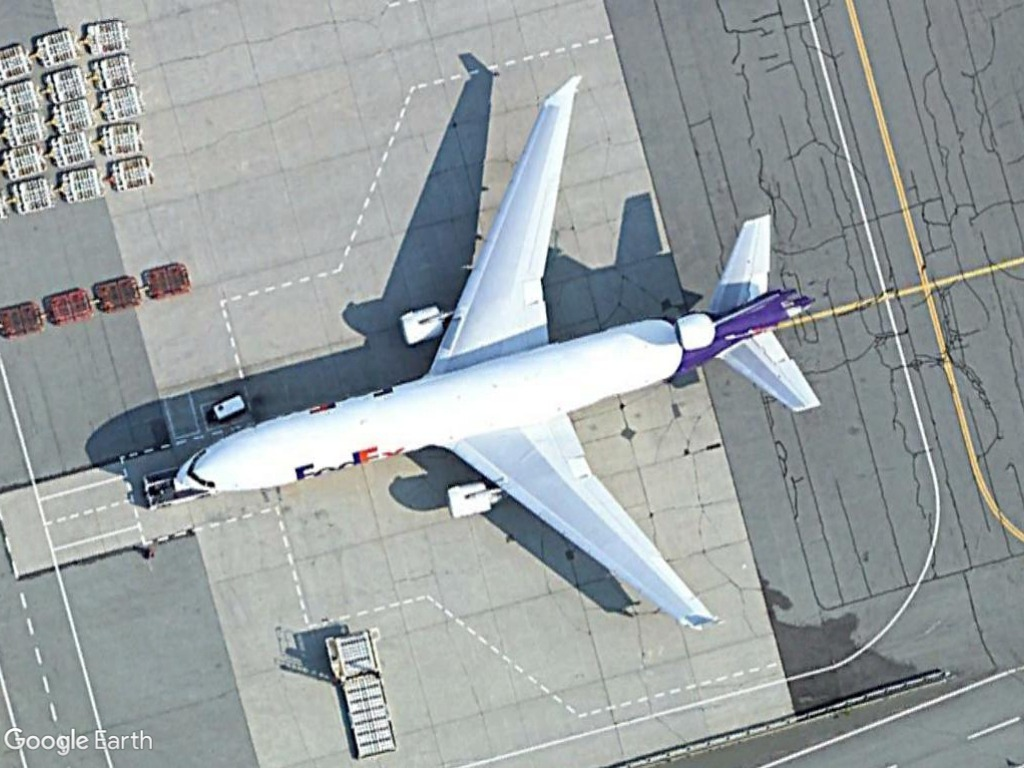airliner: (164, 73, 824, 640)
